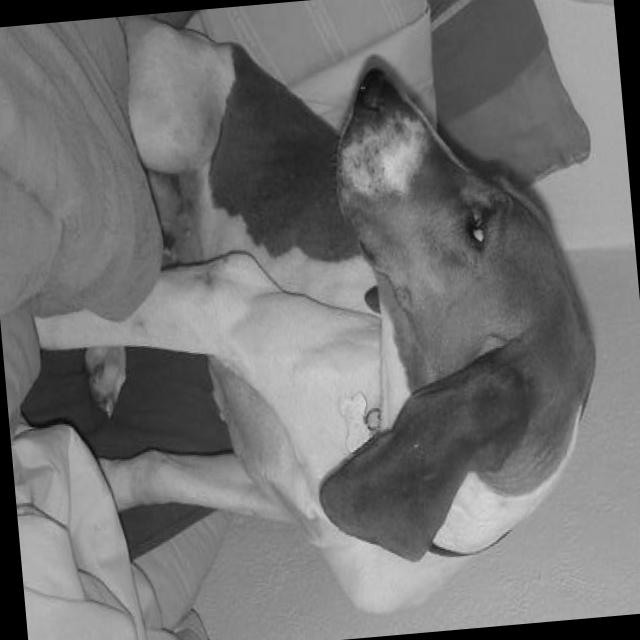sitting: (1, 0, 621, 640)
